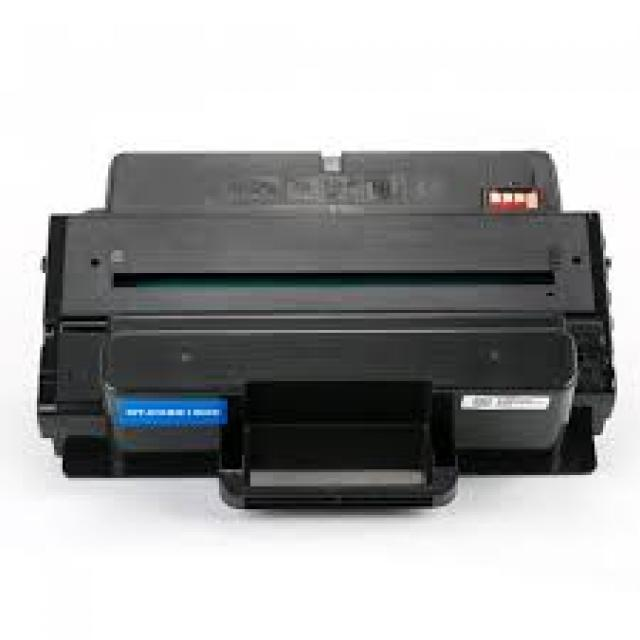printer: (25, 126, 627, 523)
